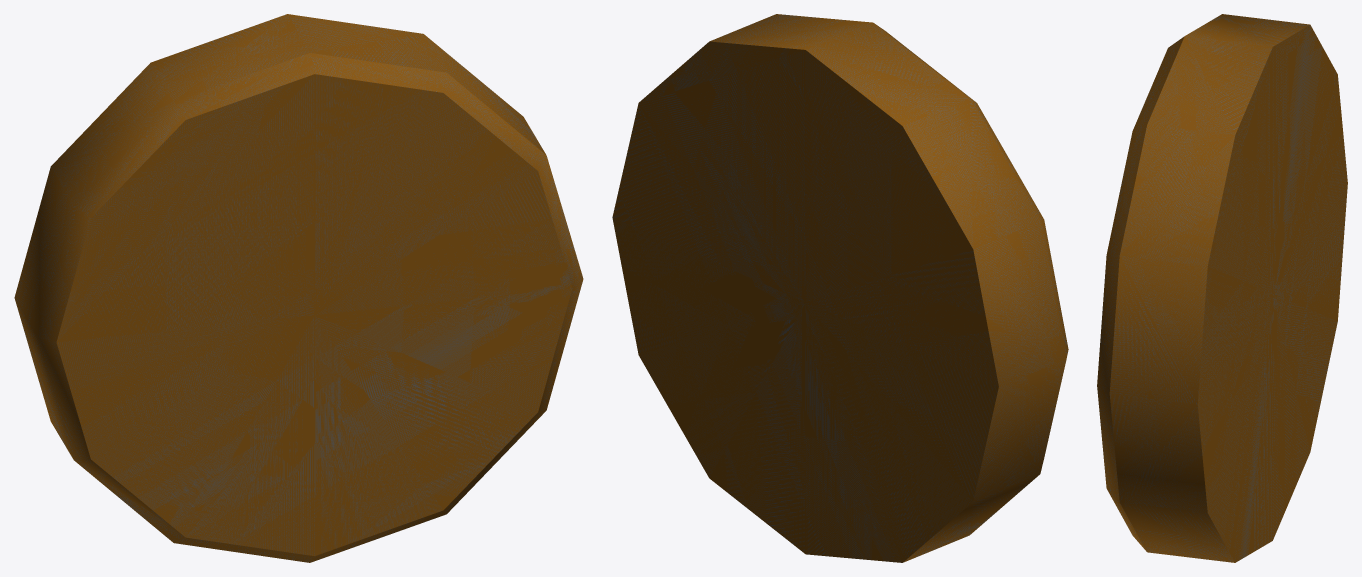
File: original-38.obj
3 renders of one model, left to right at view 1: azimuth 30°, elevation 25°; view 2: azimuth 150°, elevation 25°; view 3: azimuth 270°, elevation 25°, orthographic. The views are drawn at different scales.
Visible parts, largest first — view 1: mesh50/mesh50-geometry#mesh50-geometry; view 2: mesh50/mesh50-geometry#mesh50-geometry; view 3: mesh50/mesh50-geometry#mesh50-geometry.
Boxes of the visible parts, x1,y1,x2,y2 form: mesh50/mesh50-geometry#mesh50-geometry: [14, 14, 583, 562]; mesh50/mesh50-geometry#mesh50-geometry: [612, 14, 1068, 562]; mesh50/mesh50-geometry#mesh50-geometry: [1097, 14, 1347, 562].
Bounding box in the file's own units: 0.0961 × 0.0954 × 0.0439.
